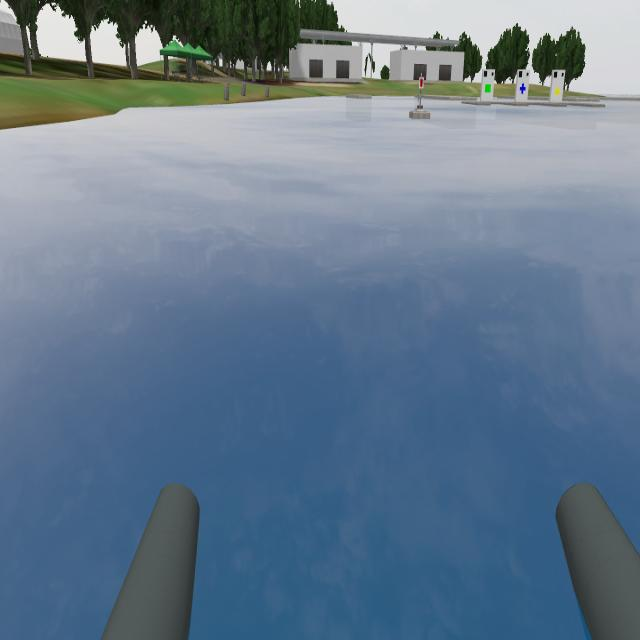red_pole: (415, 68, 429, 104)
